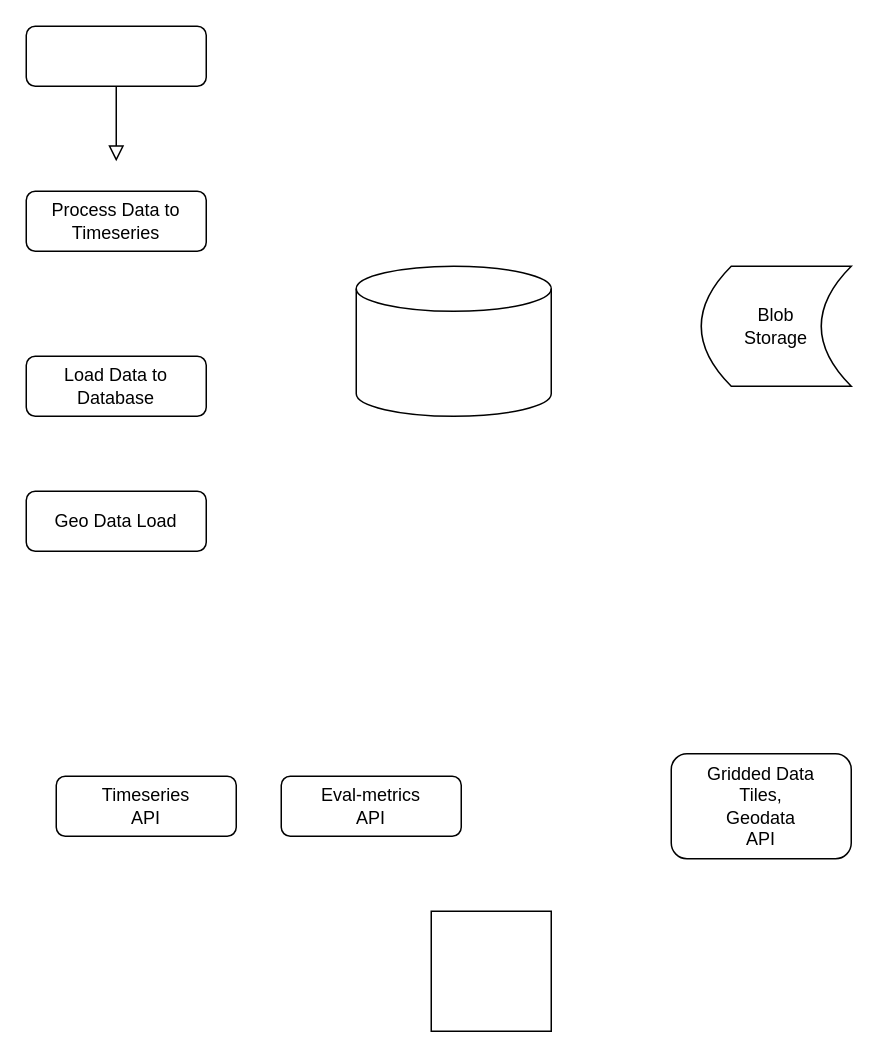
This 878x1058 diagram has some shape labels left out. Each missing label, with the centre of its shape:
"Frontend UI" goes at [490,970].
"Ingest Raw Data" goes at [115,55].
"Timeseries Database" goes at [453,340].
